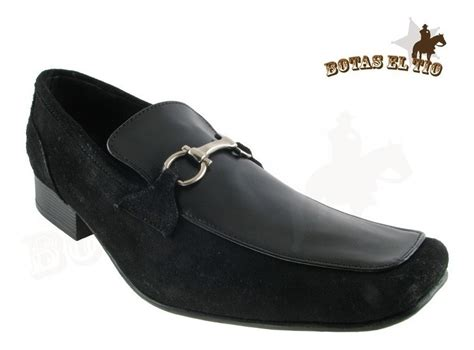gamuza: (24, 68, 448, 330)
